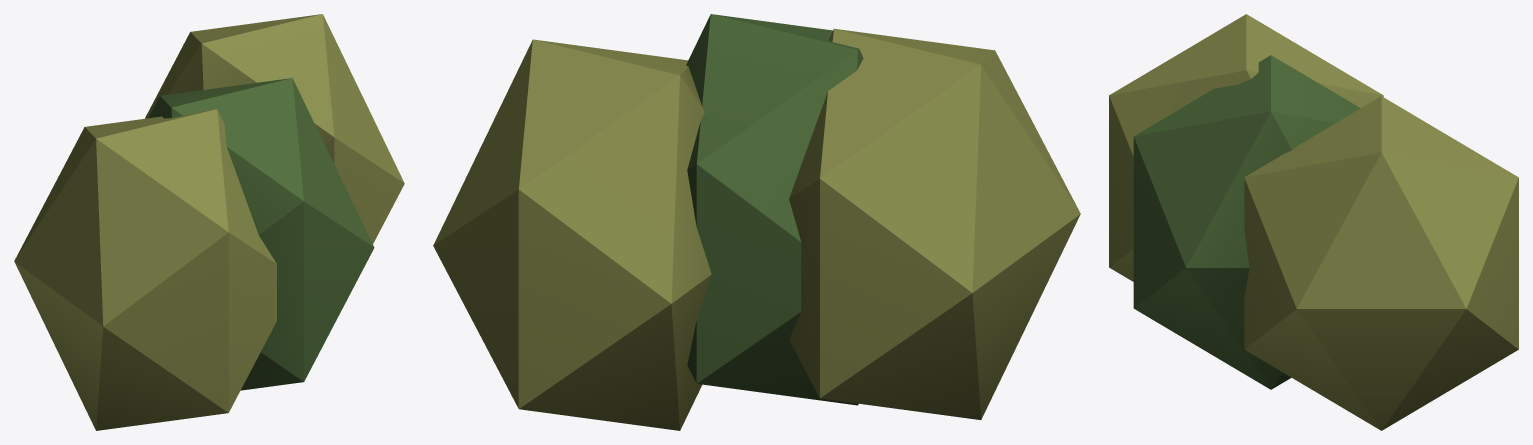
File: shrub-fynbos-2.glb
3 renders of one model, left to right at view 1: azimuth 30°, elevation 25°; view 2: azimuth 150°, elevation 25°; view 3: azimuth 270°, elevation 25°, orthographic. The views are drawn at different scales.
Visible parts, largest first — view 1: shrub-fynbos-2; view 2: shrub-fynbos-2; view 3: shrub-fynbos-2.
Part boxes in pixels (left/top/right/bottom): shrub-fynbos-2: left=14, top=14, right=404, bottom=430; shrub-fynbos-2: left=433, top=14, right=1080, bottom=430; shrub-fynbos-2: left=1109, top=14, right=1518, bottom=430.
Bounding box in the file's own units: 2 × 1.5 × 2.
